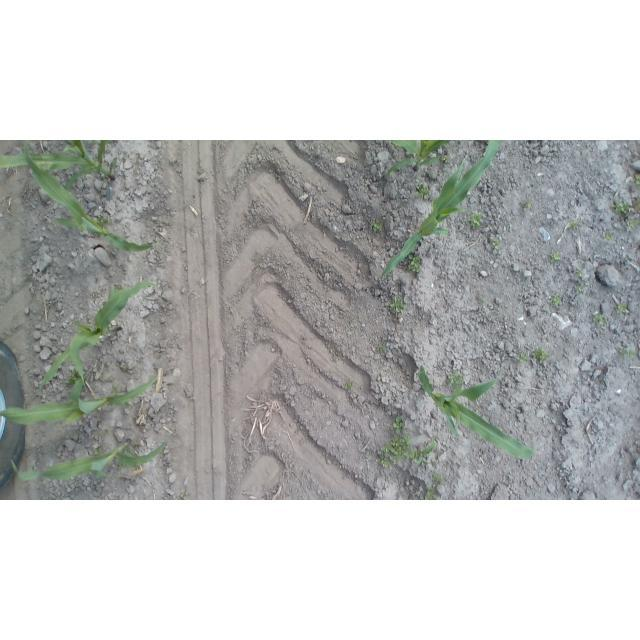Maize: (381, 140, 502, 280), (23, 141, 161, 254), (39, 281, 170, 400), (418, 365, 534, 460), (0, 368, 156, 429), (11, 439, 165, 481), (1, 141, 118, 194), (328, 141, 452, 176)
Weeds: (381, 434, 414, 465), (532, 347, 551, 364), (446, 371, 463, 390), (64, 368, 82, 385), (612, 201, 631, 217), (468, 211, 483, 229), (408, 254, 421, 274), (414, 183, 430, 199), (391, 296, 405, 314), (593, 312, 608, 328), (392, 417, 404, 436), (95, 216, 112, 228), (620, 348, 637, 360), (424, 487, 436, 500), (373, 218, 384, 232), (431, 470, 442, 483), (379, 456, 390, 468), (516, 353, 528, 364), (617, 303, 627, 314), (576, 283, 586, 294), (603, 233, 615, 242), (568, 220, 580, 229), (492, 237, 501, 249), (552, 294, 561, 306), (524, 198, 532, 211), (551, 251, 560, 262), (629, 219, 640, 227), (442, 155, 451, 164), (344, 381, 352, 391), (112, 384, 120, 394), (92, 447, 101, 455), (575, 270, 585, 277), (635, 173, 640, 186), (114, 284, 122, 292), (119, 462, 126, 470), (378, 345, 387, 351), (101, 430, 108, 437), (85, 140, 97, 144), (331, 355, 338, 361), (179, 494, 185, 500), (99, 374, 105, 379), (163, 220, 169, 224), (483, 297, 488, 301), (172, 160, 177, 164)
